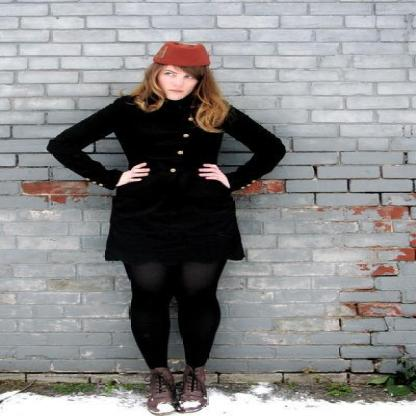hat: (145, 42, 211, 74)
jacket: (47, 92, 285, 270)
shoe: (146, 365, 204, 401)
skirt: (121, 254, 226, 369)
